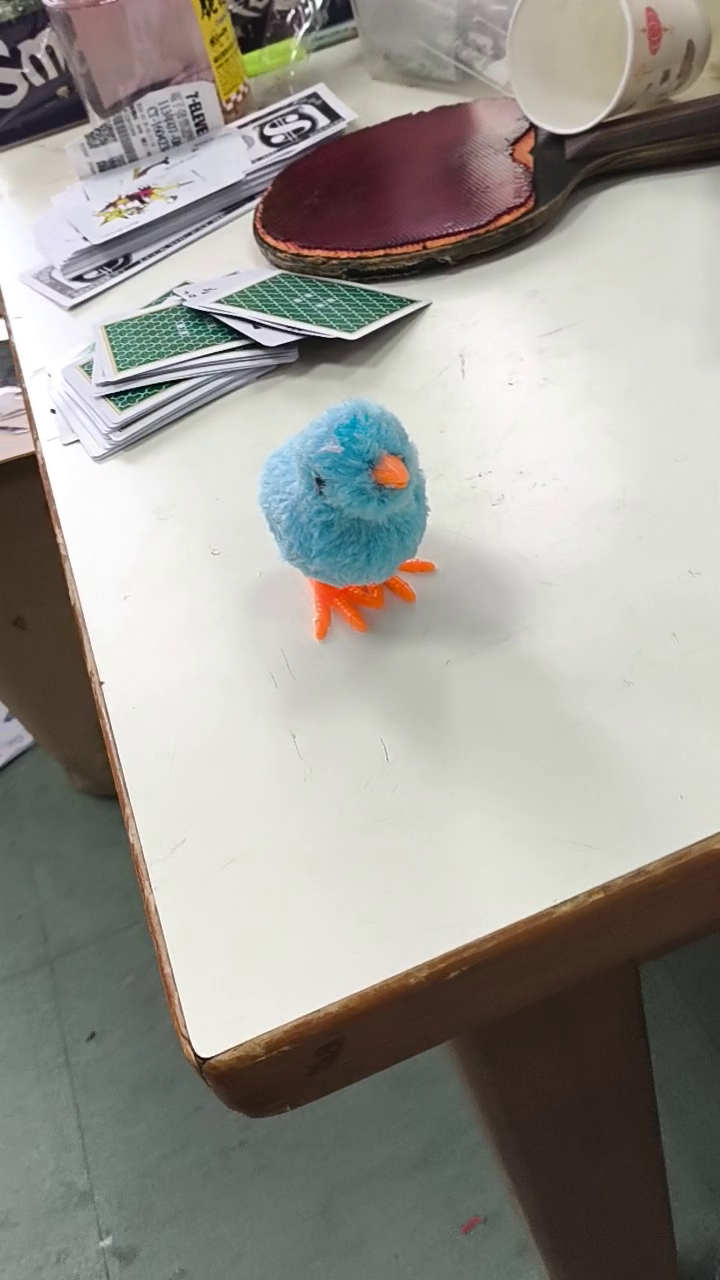blue chicken: (257, 393, 446, 647)
